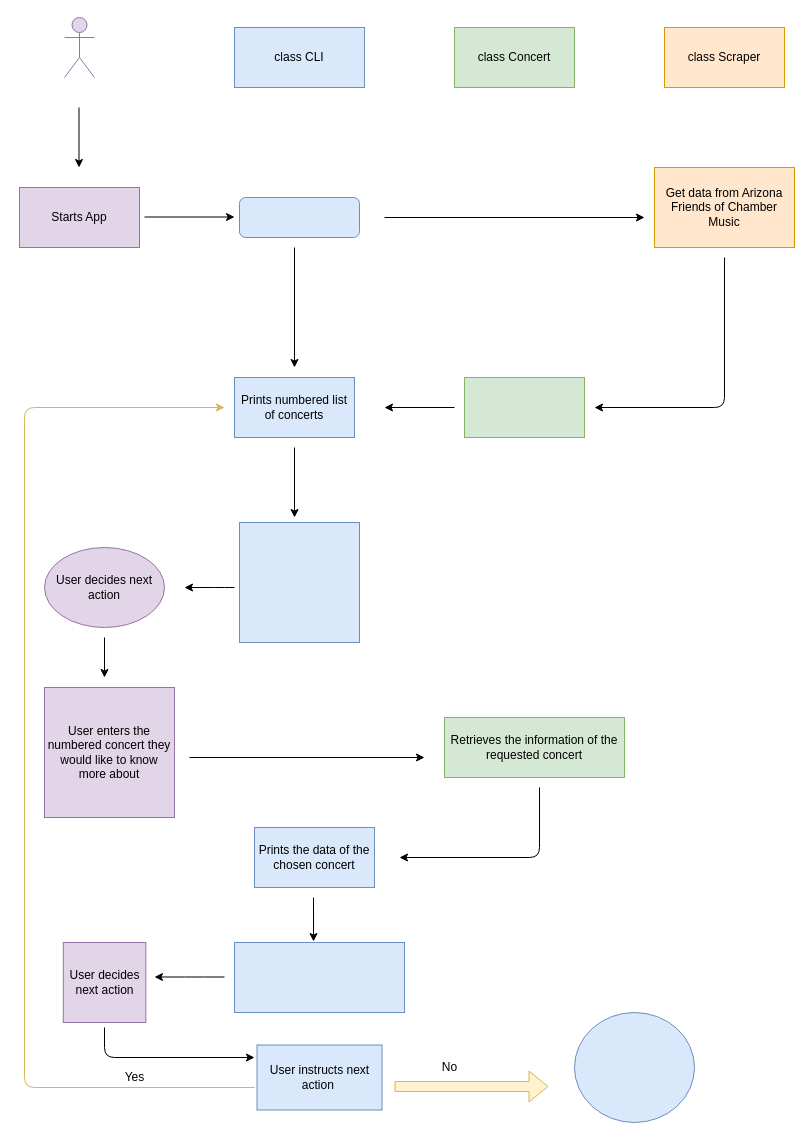
This 812x1140 diagram has some shape labels left out. The centre of each missing label's shape, as x and y in pixels:
"Asks if the user would like to check out another concert." goes at [319,977].
"Asks the user which concert they would like to know more about" goes at [299,582].
"Concerts stored" goes at [524,407].
"Prints exit greeting Exits Program" goes at [634,1067].
"puts greeting" goes at [299,217].
"User" goes at [79,47].
